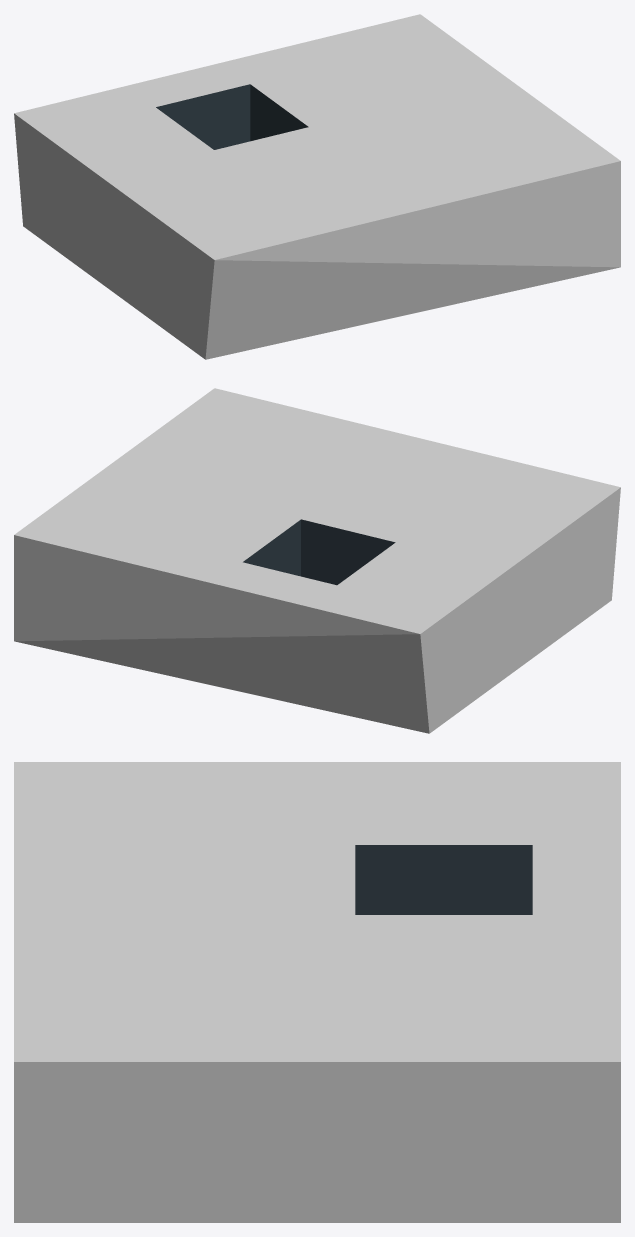
File: Floor3_building part.fbx
3 renders of one model, top to bottom at view 1: azimuth 30°, elevation 25°; view 2: azimuth 150°, elevation 25°; view 3: azimuth 270°, elevation 25°, orthographic. The views are drawn at different scales.
Parts seen in each view (by area): view 1: white Mesh (1), B1_ground Mesh (1); view 2: white Mesh (1), B1_ground Mesh (1); view 3: white Mesh (1), B1_ground Mesh (1).
Part boxes in pixels (x1,y1,x2,y2): white Mesh (1): (14,14,620,359); B1_ground Mesh (1): (156,84,308,149); white Mesh (1): (14,388,620,733); B1_ground Mesh (1): (243,519,395,585); white Mesh (1): (14,762,620,1222); B1_ground Mesh (1): (355,845,532,914).
Size of the model in its own units: 66.64 by 16.67 by 56.99.
